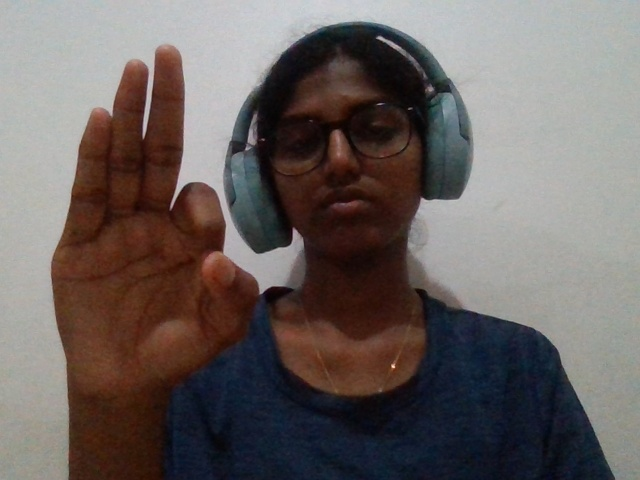F: (25, 31, 269, 426)
